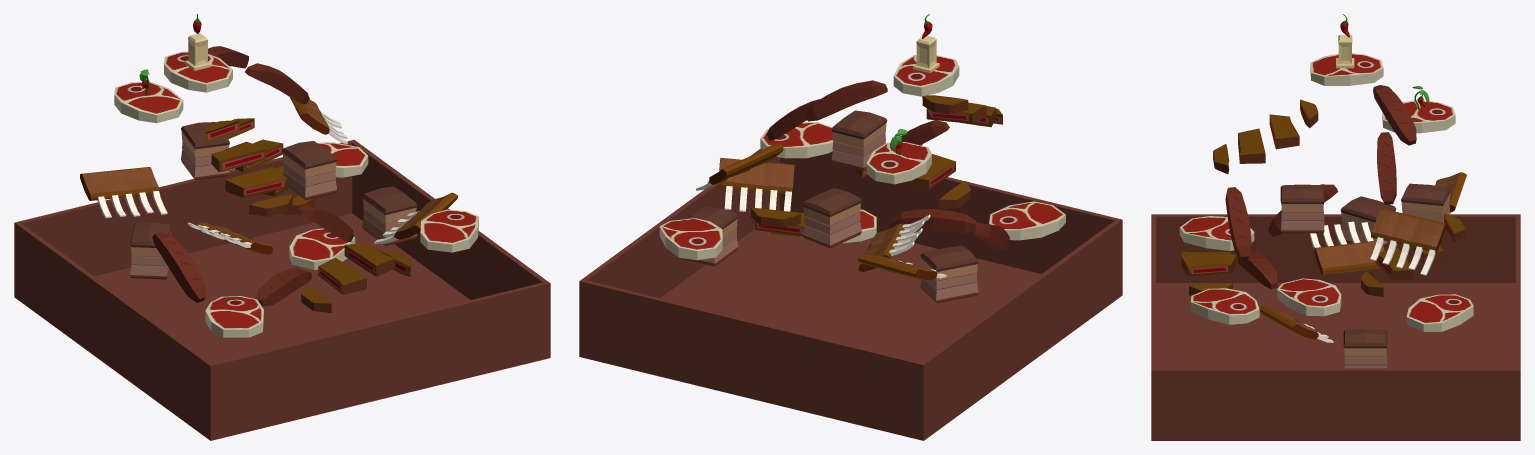
File: Level1.fbx
3 views of the same model, side by side, from view 1: azimuth 30°, elevation 25°; view 2: azimuth 150°, elevation 25°; view 3: azimuth 270°, elevation 25° (orthographic). The views are drawn at different scales.
Parts seen in each view (by area): view 1: Cube.008, hole.001, Cube.005, Cube.007, Cube.006, steak.028, steak.022, steak.016, Pork belly.002, steak.027, steak.019, steak.013 (+16 smaller); view 2: hole.001, Cube.007, Cube.005, Cube.008, Cube.006, Pork belly.004, Pork belly.003, steak.023, Pork belly.002, steak.014, steak.013, steak.027 (+16 smaller); view 3: Cube.006, hole.001, Cube.005, steak.026, steak.028, steak.018, Pork belly.002, steak.014, steak.019, steak.015, steak.025, Pork belly.005 (+16 smaller).
Part boxes in pixels (left/top/right/bottom): Cube.008: left=213, top=282, right=545, bottom=435; hole.001: left=14, top=213, right=550, bottom=440; Cube.005: left=14, top=221, right=215, bottom=436; Cube.007: left=19, top=141, right=352, bottom=276; Cube.006: left=350, top=139, right=550, bottom=354; steak.028: left=205, top=120, right=292, bottom=216; steak.022: left=300, top=243, right=410, bottom=313; steak.016: left=80, top=167, right=167, bottom=218; Pork belly.002: left=282, top=141, right=337, bottom=200; steak.027: left=114, top=81, right=183, bottom=123; steak.019: left=420, top=209, right=478, bottom=252; steak.013: left=205, top=296, right=263, bottom=337; hole.001: left=579, top=210, right=1122, bottom=440; Cube.007: left=584, top=280, right=921, bottom=435; Cube.005: left=919, top=218, right=1122, bottom=436; Cube.008: left=780, top=151, right=1117, bottom=273; Cube.006: left=579, top=148, right=780, bottom=353; Pork belly.004: left=802, top=188, right=861, bottom=248; Pork belly.003: left=920, top=245, right=978, bottom=303; steak.023: left=718, top=157, right=794, bottom=211; Pork belly.002: left=831, top=110, right=887, bottom=170; steak.014: left=659, top=218, right=722, bottom=260; steak.013: left=989, top=201, right=1065, bottom=240; steak.027: left=866, top=142, right=931, bottom=184; Cube.006: left=1151, top=368, right=1520, bottom=436; hole.001: left=1151, top=283, right=1520, bottom=440; Cube.005: left=1151, top=214, right=1520, bottom=282; steak.026: left=1370, top=208, right=1446, bottom=275; steak.028: left=1213, top=99, right=1318, bottom=174; steak.018: left=1309, top=221, right=1384, bottom=275; Pork belly.002: left=1280, top=184, right=1324, bottom=233; steak.014: left=1406, top=294, right=1473, bottom=331; steak.019: left=1190, top=288, right=1259, bottom=324; steak.015: left=1277, top=278, right=1341, bottom=316; steak.025: left=1310, top=53, right=1383, bottom=85; Pork belly.005: left=1343, top=328, right=1387, bottom=368.
Bounding box in the file's own units: 5974 × 5554 × 5974.
Materials: 19 (4 with a texture image).
